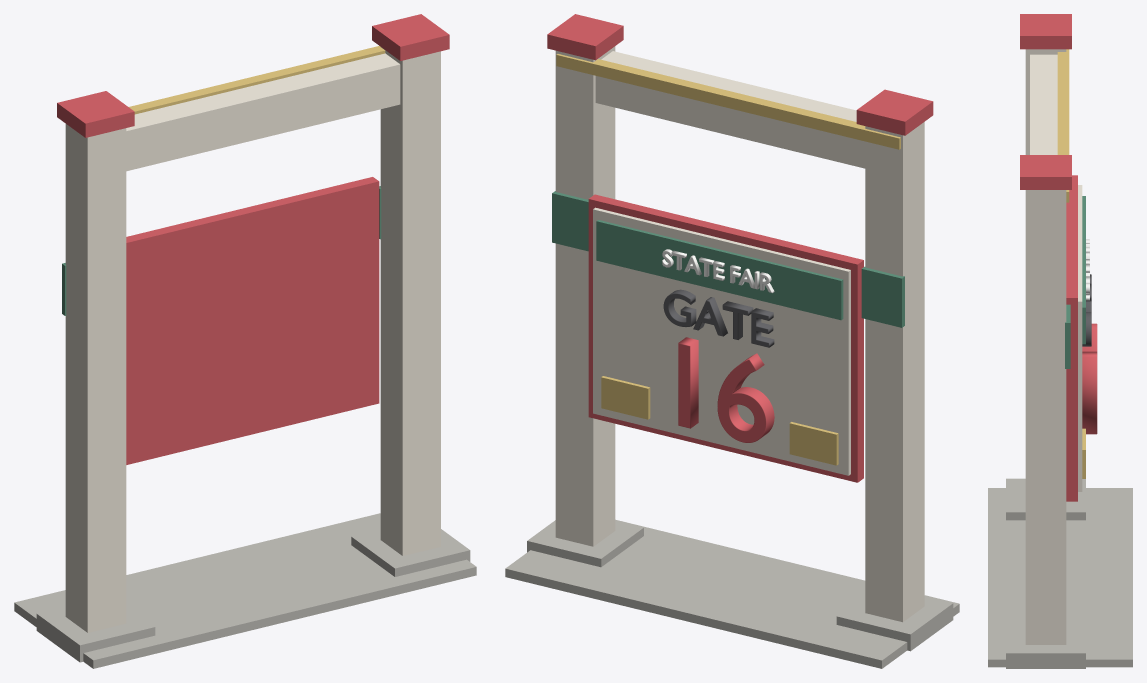
File: state-fair-gate-16.glb
3 renders of one model, left to right at view 1: azimuth 30°, elevation 25°; view 2: azimuth 150°, elevation 25°; view 3: azimuth 270°, elevation 25°, orthographic. The views are drawn at different scales.
Visible parts, largest first — view 1: SFG_SignBack, SFG_PostL, SFG_PostR, SFG_Pad, SFG_HeaderBeam, SFG_FootingL, SFG_FootingR, SFG_PostCapL, SFG_PostCapR, SFG_HeaderAccent; view 2: SFG_SignFace, SFG_PostL, SFG_Pad, SFG_PostR, SFG_HeaderBeam, SFG_Ribbon, SFG_SignBack, SFG_HeaderAccent, SFG_GateNumber, SFG_FootingL, SFG_GateLabel, SFG_FootingR (+7 smaller); view 3: SFG_PostR, SFG_Pad, SFG_SignBack, SFG_FootingR, SFG_HeaderBeam, SFG_PostCapL, SFG_PostCapR, SFG_GateNumber, SFG_SignFace, SFG_HeaderAccent, SFG_FootingL, SFG_PostL (+4 smaller).
Part boxes in pixels (bbox=[...]): SFG_SignBack: bbox=[126, 177, 379, 464]; SFG_PostL: bbox=[65, 124, 126, 632]; SFG_PostR: bbox=[380, 47, 440, 555]; SFG_Pad: bbox=[14, 513, 476, 668]; SFG_HeaderBeam: bbox=[126, 53, 400, 171]; SFG_FootingL: bbox=[36, 606, 155, 662]; SFG_FootingR: bbox=[351, 529, 470, 576]; SFG_PostCapL: bbox=[57, 91, 134, 137]; SFG_PostCapR: bbox=[372, 14, 449, 60]; SFG_HeaderAccent: bbox=[129, 46, 385, 114]; SFG_SignFace: bbox=[593, 207, 850, 475]; SFG_PostL: bbox=[865, 122, 924, 622]; SFG_Pad: bbox=[505, 519, 959, 668]; SFG_PostR: bbox=[555, 46, 615, 546]; SFG_HeaderBeam: bbox=[595, 51, 865, 168]; SFG_Ribbon: bbox=[596, 220, 843, 320]; SFG_SignBack: bbox=[588, 194, 863, 482]; SFG_HeaderAccent: bbox=[556, 54, 900, 149]; SFG_GateNumber: bbox=[678, 337, 774, 442]; SFG_FootingL: bbox=[836, 596, 953, 651]; SFG_GateLabel: bbox=[663, 289, 774, 347]; SFG_FootingR: bbox=[527, 520, 643, 567]; SFG_PostR: bbox=[1025, 190, 1066, 644]; SFG_Pad: bbox=[988, 488, 1132, 667]; SFG_SignBack: bbox=[1066, 175, 1077, 501]; SFG_FootingR: bbox=[1006, 619, 1085, 668]; SFG_HeaderBeam: bbox=[1030, 54, 1057, 154]; SFG_PostCapL: bbox=[1020, 14, 1071, 49]; SFG_PostCapR: bbox=[1020, 155, 1071, 189]; SFG_GateNumber: bbox=[1082, 323, 1097, 434]; SFG_SignFace: bbox=[1078, 185, 1082, 491]; SFG_HeaderAccent: bbox=[1057, 49, 1069, 202]; SFG_FootingL: bbox=[1006, 478, 1085, 520]; SFG_PostL: bbox=[1025, 49, 1066, 154].
Size of the model in its own units: 2.85 by 3.7 by 1.
